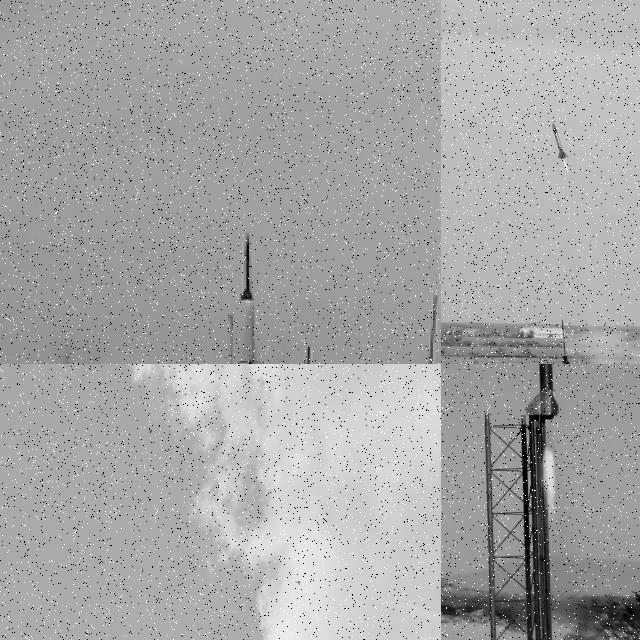Rocket: (525, 364, 559, 421), (236, 231, 258, 302), (551, 122, 569, 159), (295, 580, 303, 586)
